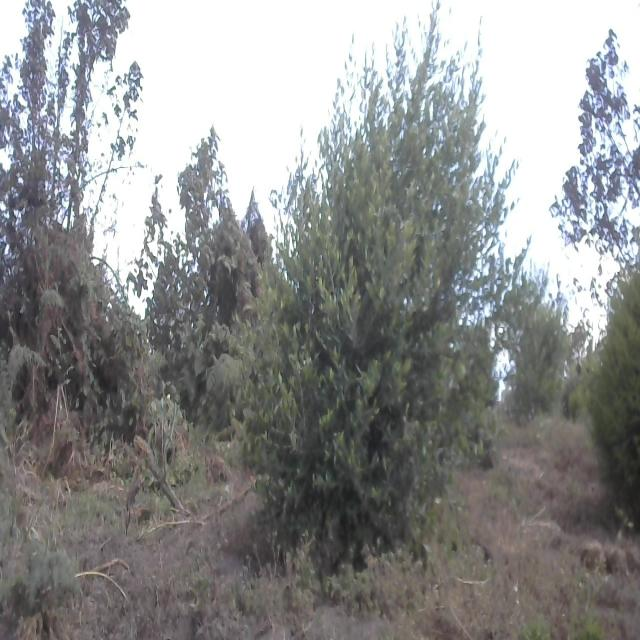Croton machrostychus: (0, 0, 153, 392), (155, 110, 252, 416)
Juniperus procesera: (595, 278, 640, 507)
Olea europea -africana-: (245, 13, 536, 556)
